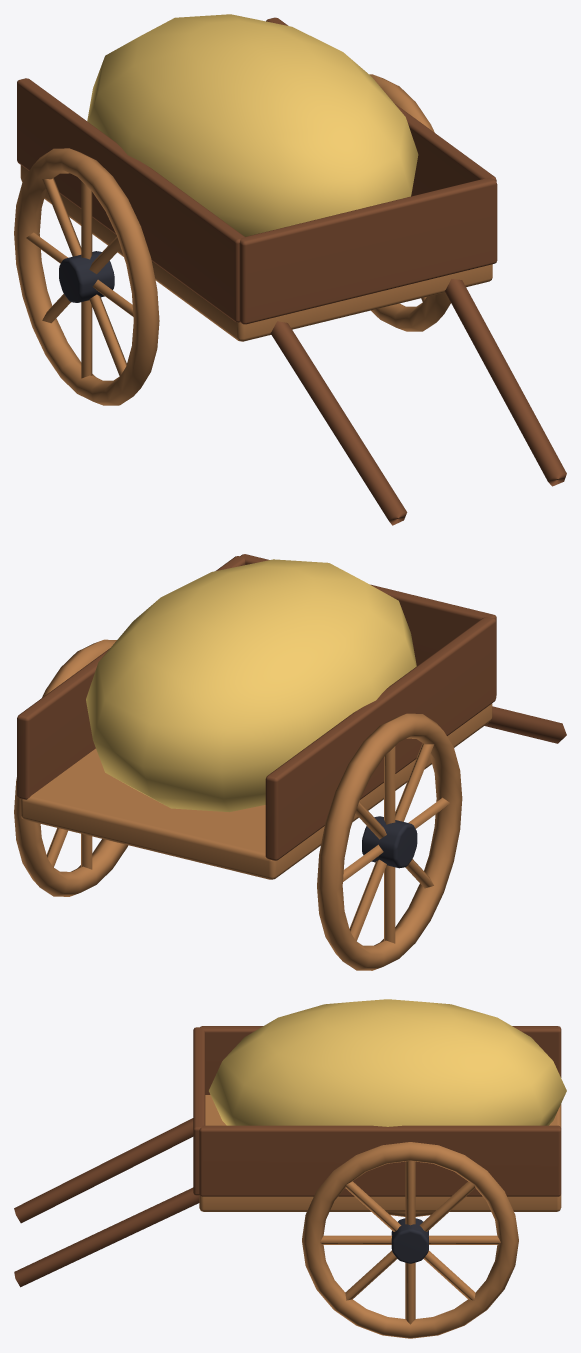
Rendered from faire_cart.glb.
The picture shows the model from 3 angles, top to bottom: view 1: azimuth 30°, elevation 25°; view 2: azimuth 150°, elevation 25°; view 3: azimuth 270°, elevation 25°; orthographic projection. The views are drawn at different scales.
Visible parts, largest first — view 1: Cart; view 2: Cart; view 3: Cart.
Part boxes in pixels (bbox=[...]): Cart: bbox=[14, 14, 566, 525]; Cart: bbox=[14, 554, 566, 970]; Cart: bbox=[14, 999, 566, 1338].
Bounding box in the file's own units: 2.12 × 1.94 × 3.67.
